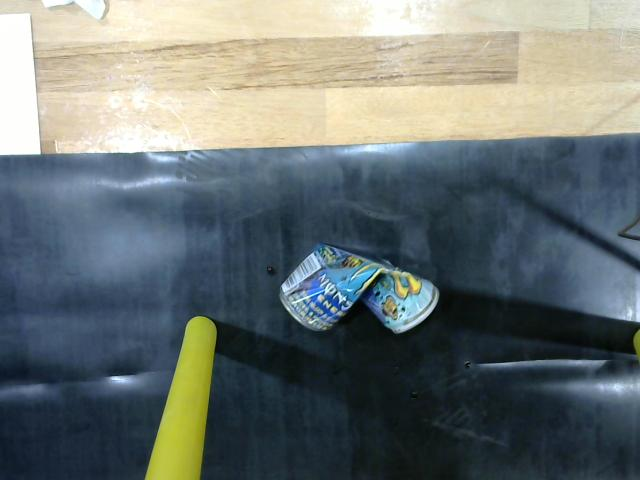can: (276, 242, 449, 343)
